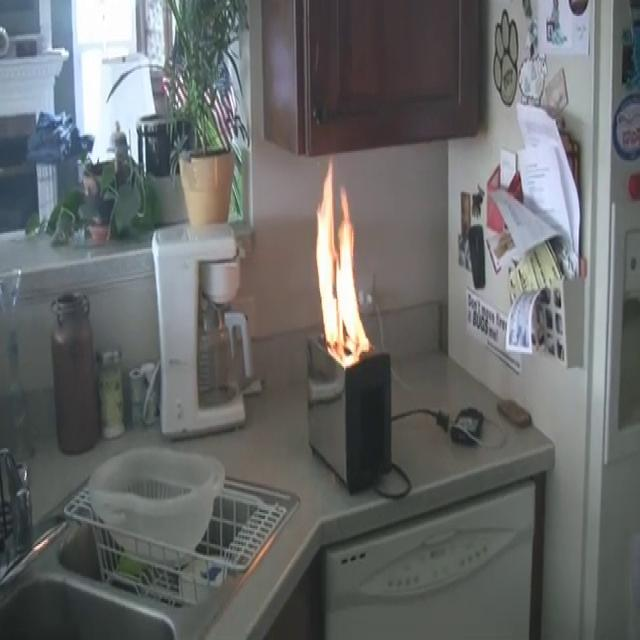fire: (301, 162, 378, 376)
